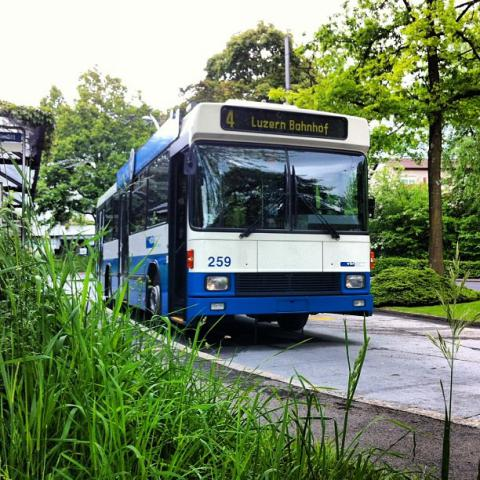bus: (96, 100, 374, 332)
